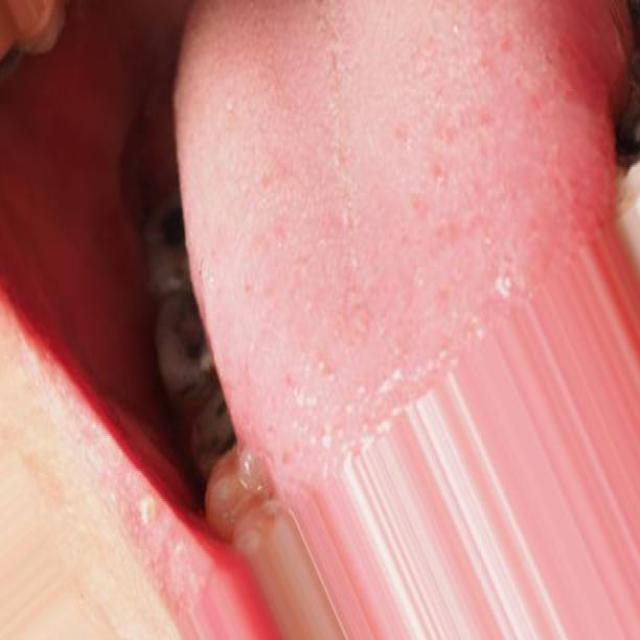caries: (154, 282, 214, 395), (147, 188, 199, 287), (188, 376, 240, 474)
